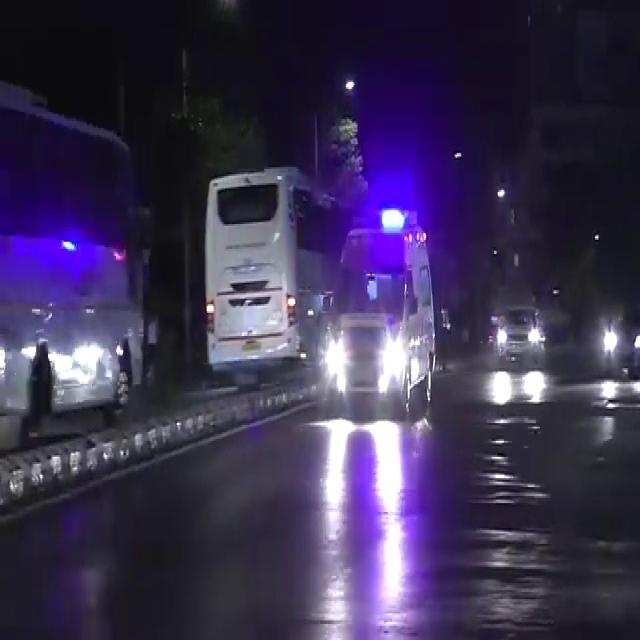ambulance: (319, 220, 459, 434)
